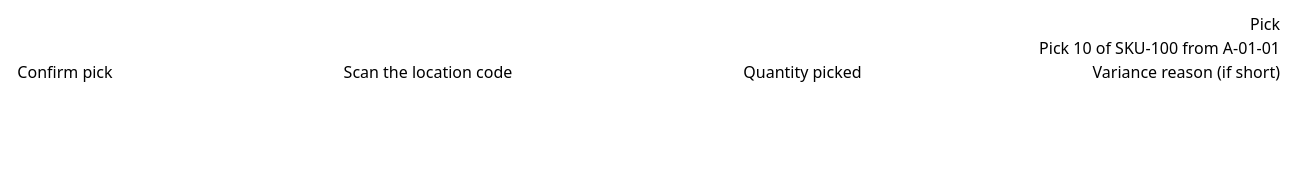
Test: Scenario: A scanned pick line queues one PickLine write with one Idempotency-Key and correlationId › an accepted pick enqueues one valid PickLineInput with one key and one correlationId
In the field labelled "Scan the location code": (628,72) [512, 60, 743, 84], type "A-01-01"
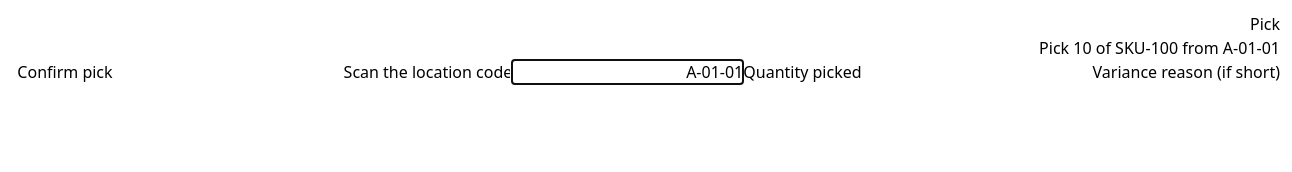
In the field labelled "Quantity picked": (977,72) [862, 60, 1093, 84], type "10"
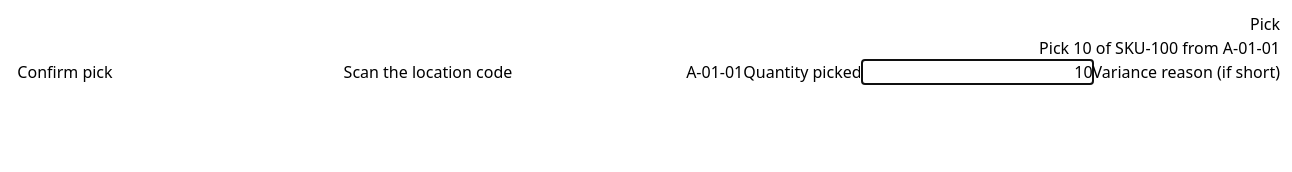
Click the button "Confirm pick": (65,72) [17, 60, 113, 84]
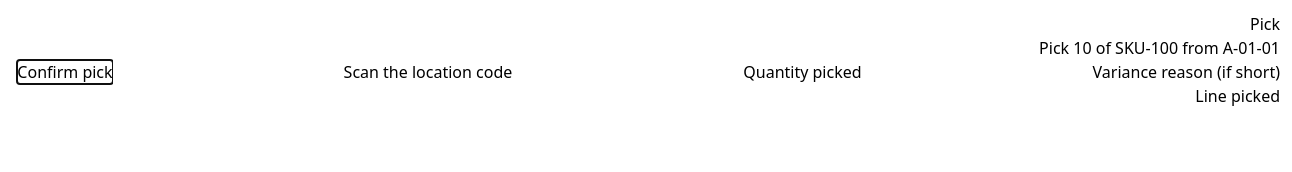
expect the message reads "Line picked": met, box [1195, 85, 1280, 107]
